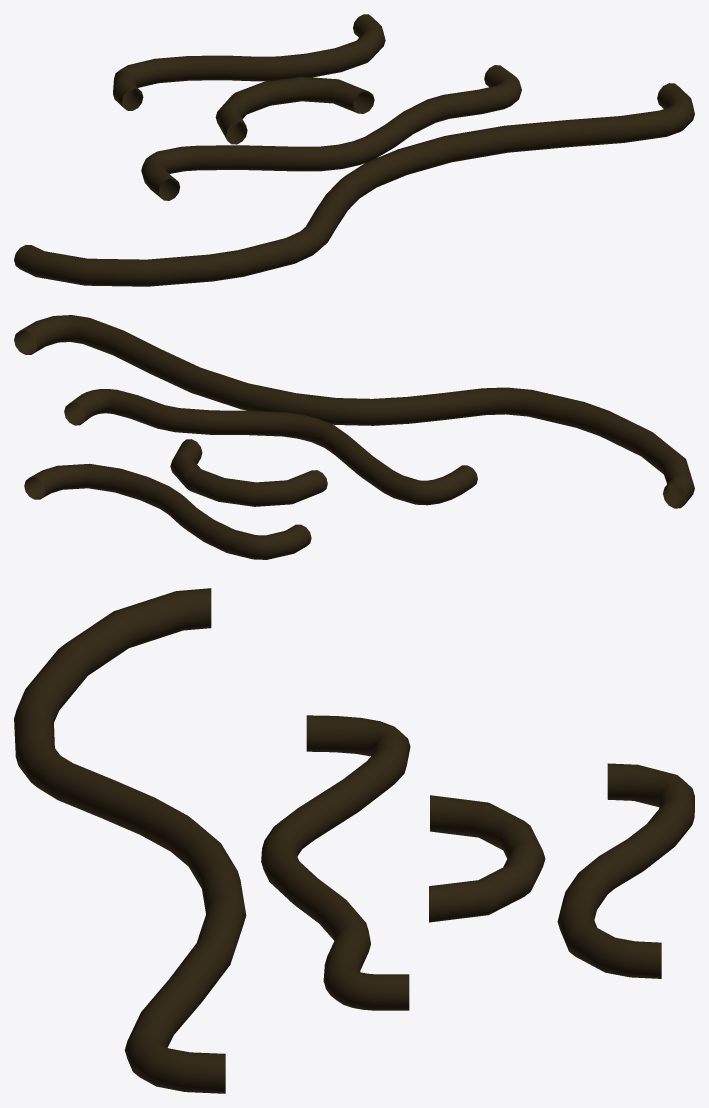
The model's file is P_Tuyaux.fbx.
3 views of the same model, one above another, from view 1: azimuth 30°, elevation 25°; view 2: azimuth 150°, elevation 25°; view 3: azimuth 270°, elevation 25° (orthographic). The views are drawn at different scales.
Visible parts, largest first — view 1: P_Tuyaux_04, P_Tuyaux_01, P_Tuyaux_02, P_Tuyaux_03; view 2: P_Tuyaux_04, P_Tuyaux_01, P_Tuyaux_02, P_Tuyaux_03; view 3: P_Tuyaux_04, P_Tuyaux_01, P_Tuyaux_02, P_Tuyaux_03.
Boxes of the visible parts, <box> form: P_Tuyaux_04: <box>14,83,694,286</box>; P_Tuyaux_01: <box>141,65,521,200</box>; P_Tuyaux_02: <box>113,14,385,110</box>; P_Tuyaux_03: <box>215,76,374,144</box>; P_Tuyaux_04: <box>14,315,694,508</box>; P_Tuyaux_01: <box>64,389,477,505</box>; P_Tuyaux_02: <box>24,463,311,559</box>; P_Tuyaux_03: <box>170,439,327,506</box>; P_Tuyaux_04: <box>14,588,246,1093</box>; P_Tuyaux_01: <box>261,715,410,1010</box>; P_Tuyaux_02: <box>557,763,694,978</box>; P_Tuyaux_03: <box>429,795,545,922</box>.
Bounding box in the file's own units: 626 × 22 × 373.
